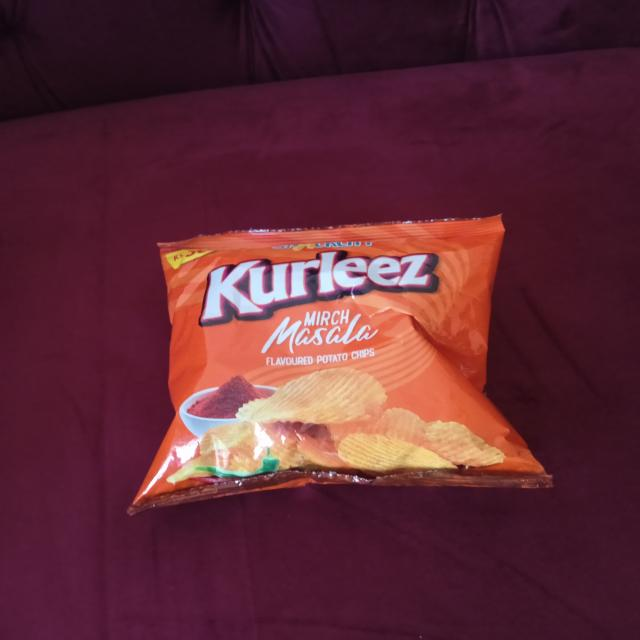Plastic: (117, 214, 558, 518)
